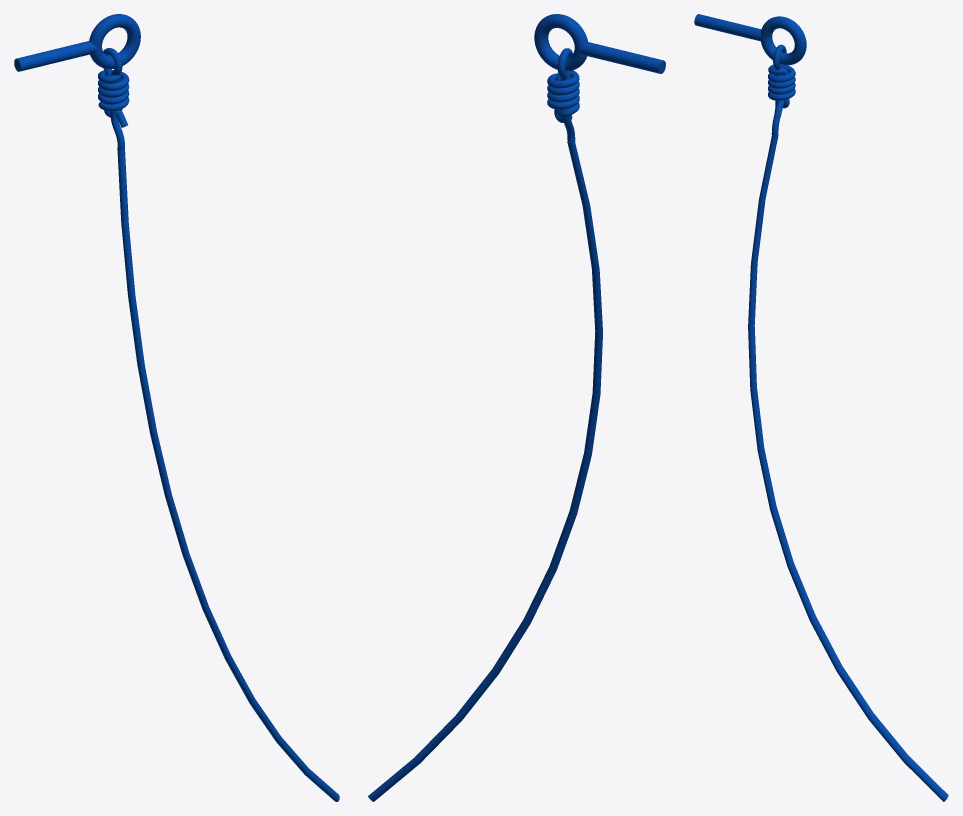
The model's file is cuerda.dae.
3 renders of one model, left to right at view 1: azimuth 30°, elevation 25°; view 2: azimuth 150°, elevation 25°; view 3: azimuth 330°, elevation 25°, orthographic. The views are drawn at different scales.
Visible parts, largest first — view 1: Component_25, Nodo, group_3, group_2; view 2: Component_25, Nodo, group_3, group_2; view 3: Component_25, Nodo, group_3, group_2.
Part boxes in pixels (box(x1,y1,x2,y2)): Component_25: box(117, 147, 339, 801); Nodo: box(98, 48, 129, 150); group_3: box(89, 14, 140, 69); group_2: box(14, 41, 97, 71); Component_25: box(368, 142, 602, 801); Nodo: box(547, 48, 579, 142); group_3: box(534, 14, 587, 71); group_2: box(578, 42, 665, 73); Component_25: box(748, 135, 948, 801); Nodo: box(768, 44, 795, 137); group_3: box(760, 16, 806, 65); group_2: box(694, 14, 762, 41).
Bounding box in the file's own units: 30.6 × 8.98 × 79.45.
